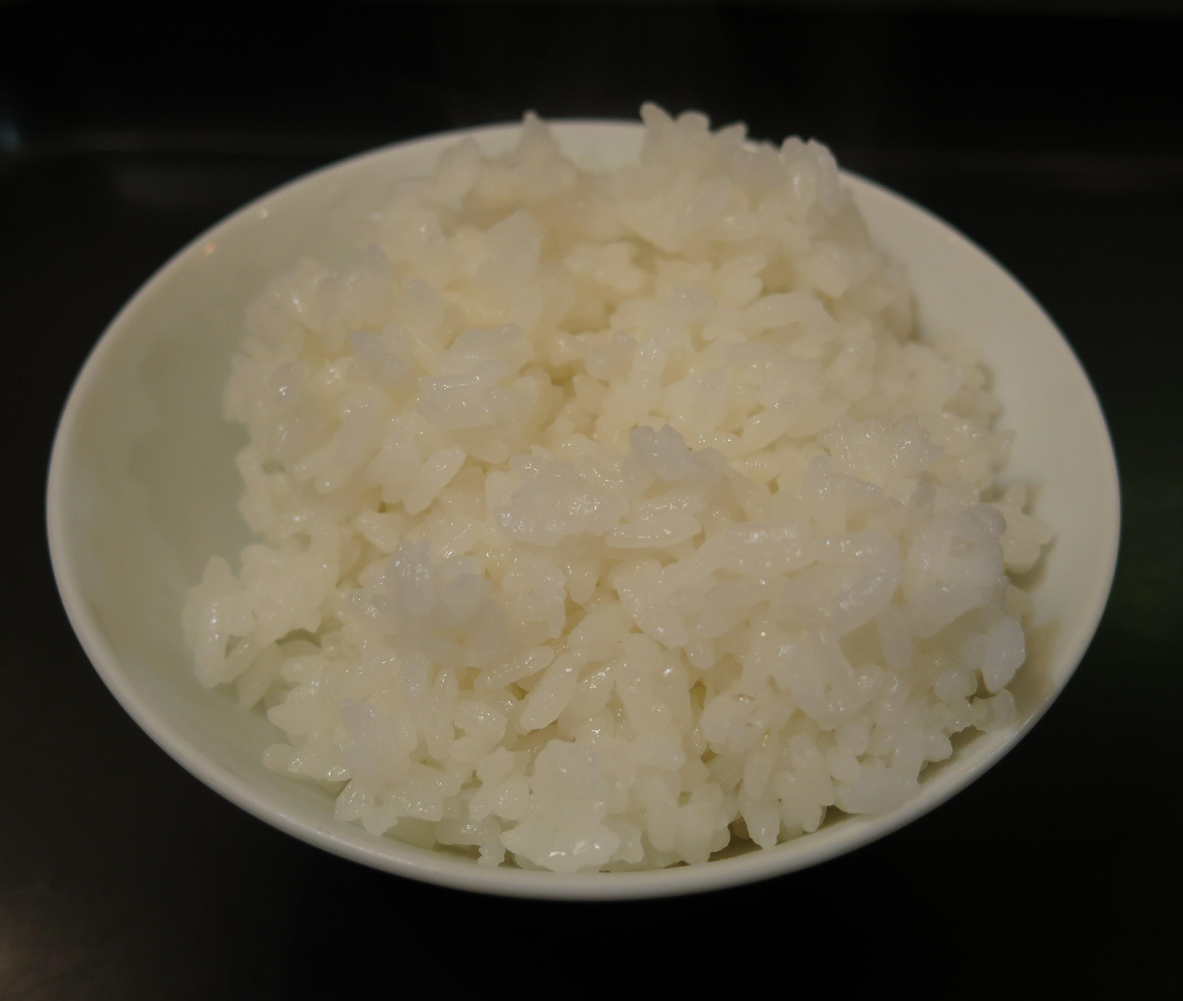WhiteRice: (186, 101, 1064, 871)
